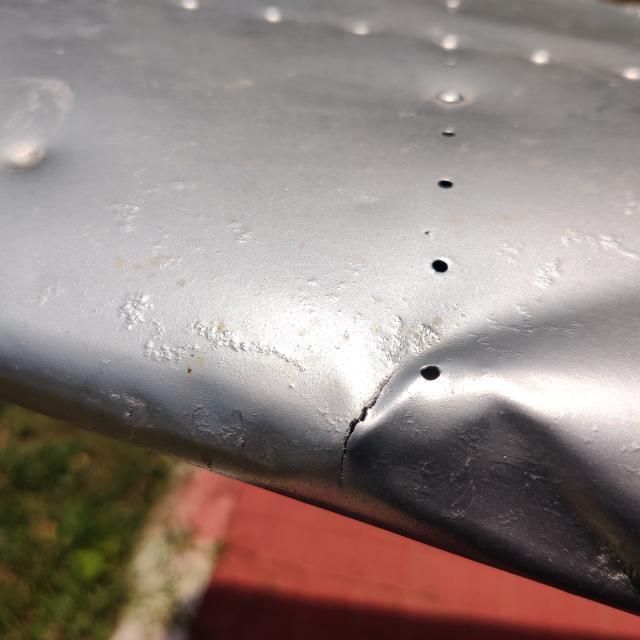crack: (320, 350, 418, 525)
dent: (326, 247, 640, 620), (0, 120, 77, 201)
